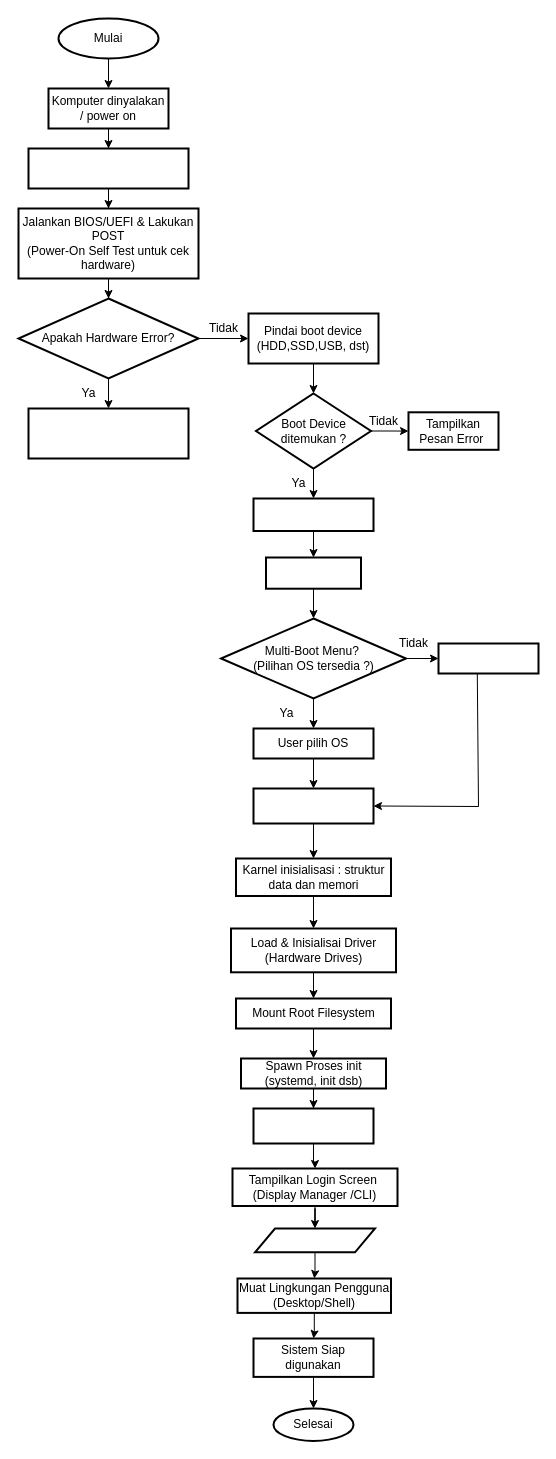
This 556x1459 diagram has some shape labels left out. Each missing label, with the centre of its shape:
"Bootloader Dieksekusi" belongs at pixel 313 572.
"CPU membaca BIOS/UEFI dari ROM di Motherboard" belongs at pixel 108 168.
"Jalankan Layanan & Daemon" belongs at pixel 313 1125.
"Load Bootloader (MBR/GPT)" belongs at pixel 313 514.
"Load Karnel ke RAM" belongs at pixel 313 805.
"OS Default" belongs at pixel 488 658.
"Tampilkan Error/ Beep Code (Error Handling)" belongs at pixel 108 433.
"User Login" belongs at pixel 315 1240.
